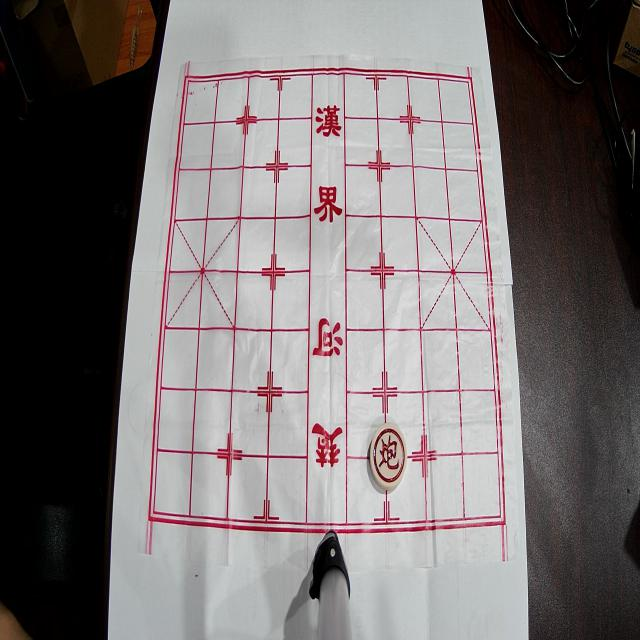red-cannon: (370, 423, 407, 490)
